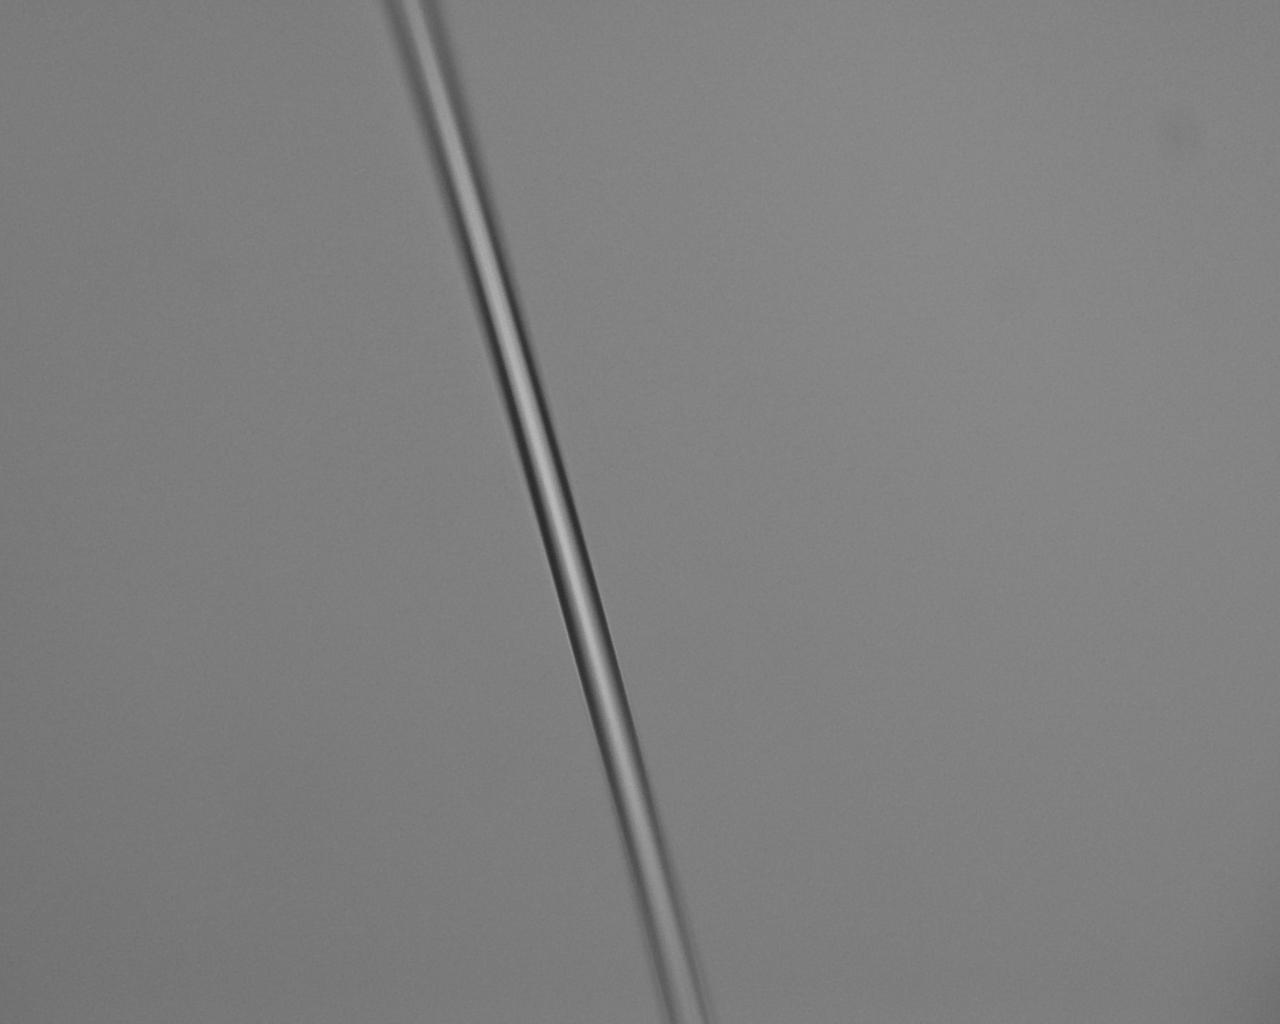fiber: (638, 0, 743, 1024)
